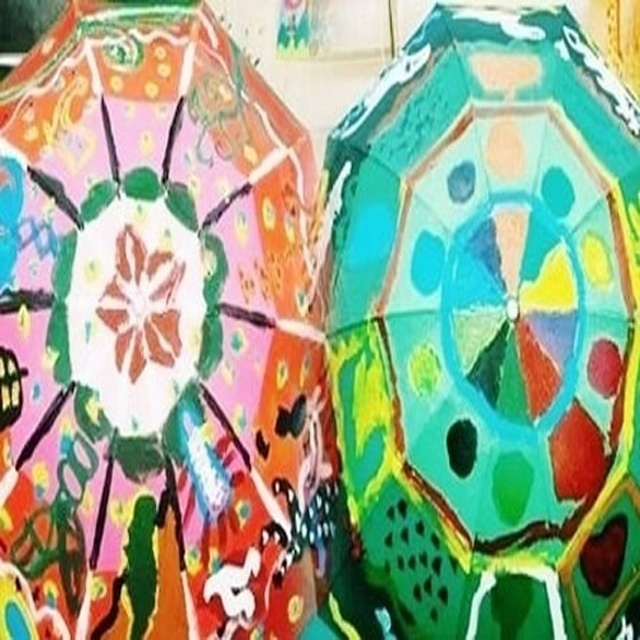umbrella: (1, 1, 356, 640), (305, 1, 640, 640)
